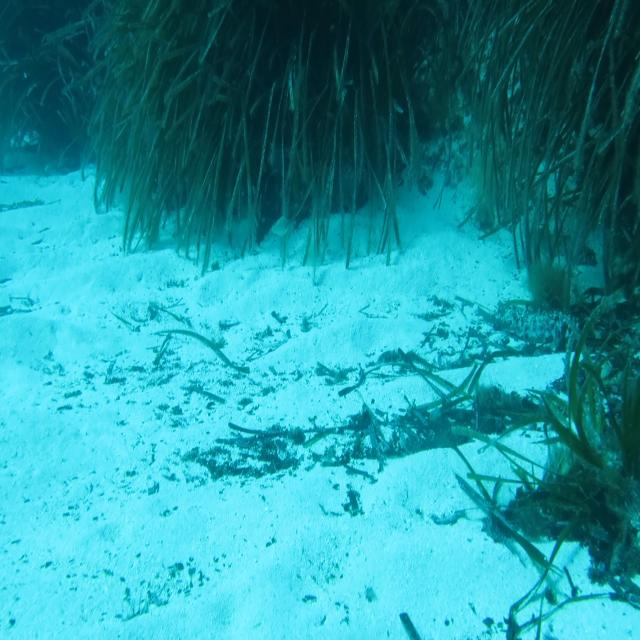SA: (270, 216, 292, 242)
vegetation: (122, 3, 484, 214), (485, 0, 639, 289), (210, 360, 488, 434), (536, 370, 640, 543), (0, 0, 120, 121), (452, 562, 626, 640), (474, 294, 640, 366)
